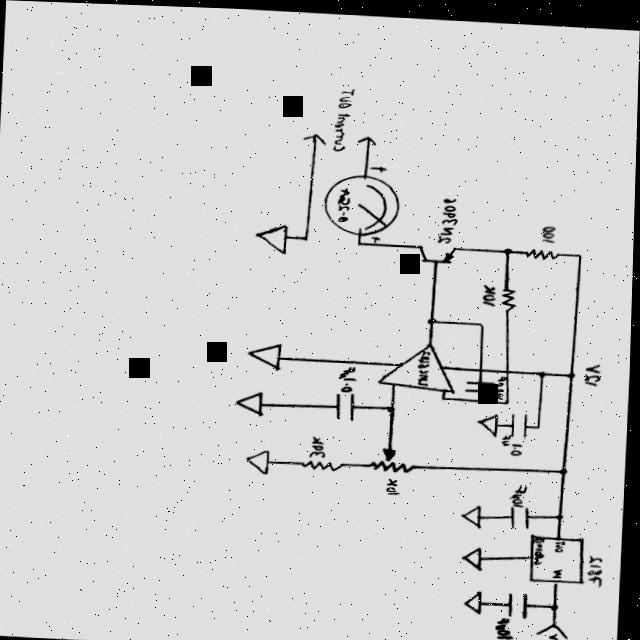capacitor: (336, 389, 359, 417), (510, 587, 531, 614), (512, 406, 530, 435), (467, 374, 499, 390), (511, 501, 533, 524)
crossover: (478, 361, 488, 369), (505, 363, 513, 370)
ground: (256, 220, 290, 251), (248, 339, 284, 367), (237, 388, 266, 413), (247, 446, 273, 472), (477, 407, 501, 432), (465, 542, 487, 566), (464, 500, 485, 525), (467, 585, 487, 609)
junction: (386, 398, 399, 409), (552, 596, 564, 607), (566, 364, 579, 374), (538, 364, 551, 374), (559, 461, 572, 470), (427, 312, 440, 321), (557, 506, 568, 516), (479, 314, 490, 323), (503, 242, 515, 250), (577, 246, 586, 254), (302, 230, 311, 238), (355, 236, 364, 243), (504, 394, 513, 401), (476, 392, 485, 399), (441, 389, 450, 396), (536, 418, 544, 425)
resistor: (370, 443, 418, 469), (304, 455, 347, 468), (502, 281, 519, 306), (526, 243, 561, 255)
terminal: (539, 618, 573, 634), (303, 129, 327, 143), (357, 130, 379, 142)
text: (332, 83, 355, 149), (436, 192, 460, 240), (589, 547, 608, 581), (502, 429, 527, 454), (337, 182, 353, 220), (338, 361, 359, 389), (418, 345, 433, 383), (496, 611, 518, 636), (584, 357, 605, 383), (509, 478, 531, 502), (310, 431, 330, 455), (482, 279, 499, 302), (386, 473, 405, 492), (536, 532, 548, 561), (541, 219, 558, 239), (497, 369, 508, 396), (550, 627, 565, 640), (557, 535, 569, 548), (555, 562, 567, 574)
transistor: (418, 239, 458, 259)
